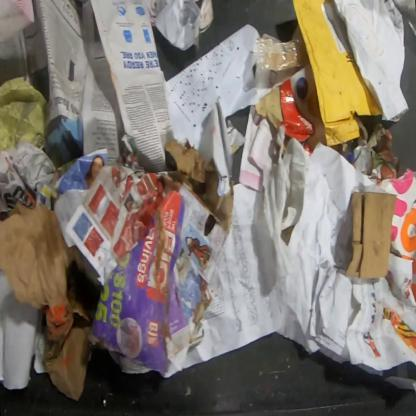cardboard: (87, 174, 191, 378), (291, 0, 383, 148), (163, 138, 236, 234), (345, 191, 397, 280), (254, 86, 284, 133)
soft_plastic: (277, 79, 316, 143), (253, 35, 308, 72)
